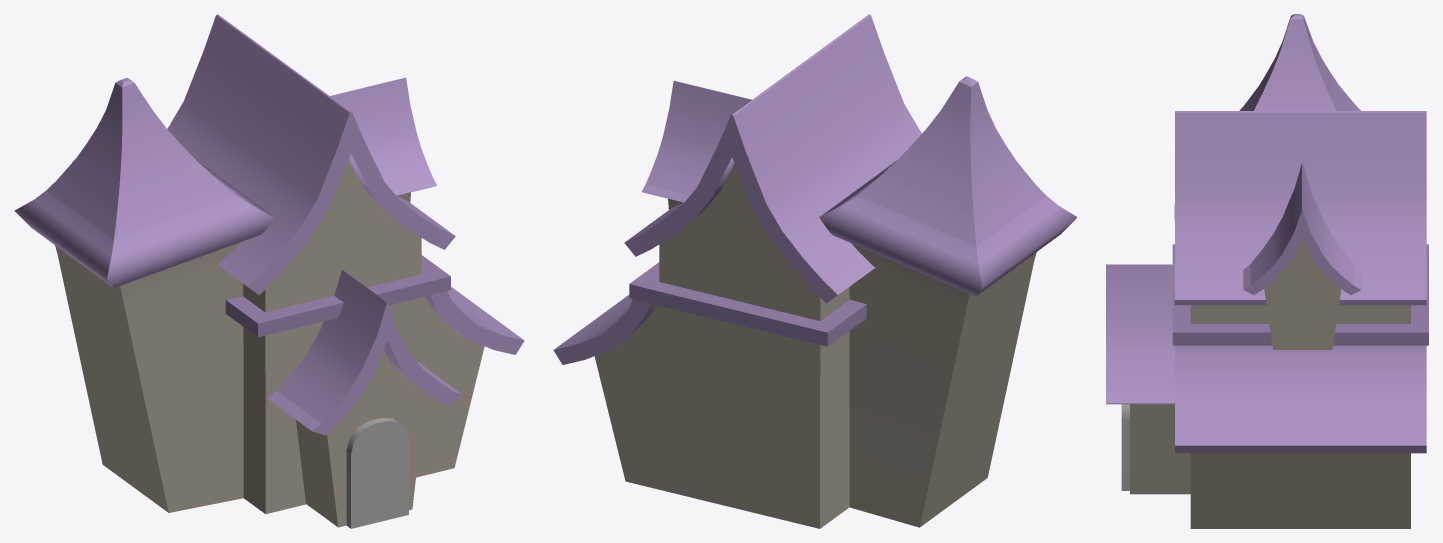
File: House 1.fbx
3 views of the same model, side by side, from view 1: azimuth 30°, elevation 25°; view 2: azimuth 150°, elevation 25°; view 3: azimuth 270°, elevation 25° (orthographic). The views are drawn at different scales.
Visible parts, largest first — view 1: Roof_2nd; view 2: Roof_2nd; view 3: Roof_2nd.
Part boxes in pixels (bbox=[...]): Roof_2nd: bbox=[14, 14, 524, 528]; Roof_2nd: bbox=[553, 14, 1077, 528]; Roof_2nd: bbox=[1106, 14, 1428, 528].
Bounding box in the file's own units: 1433 × 1429 × 1074.
